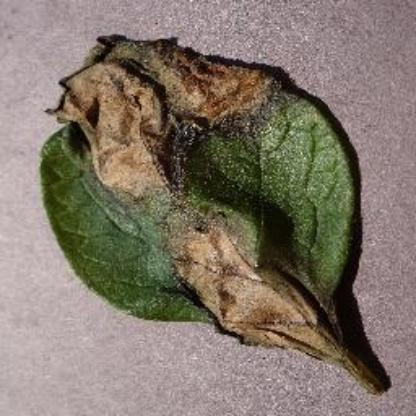Late-Blight: (28, 26, 394, 395)
